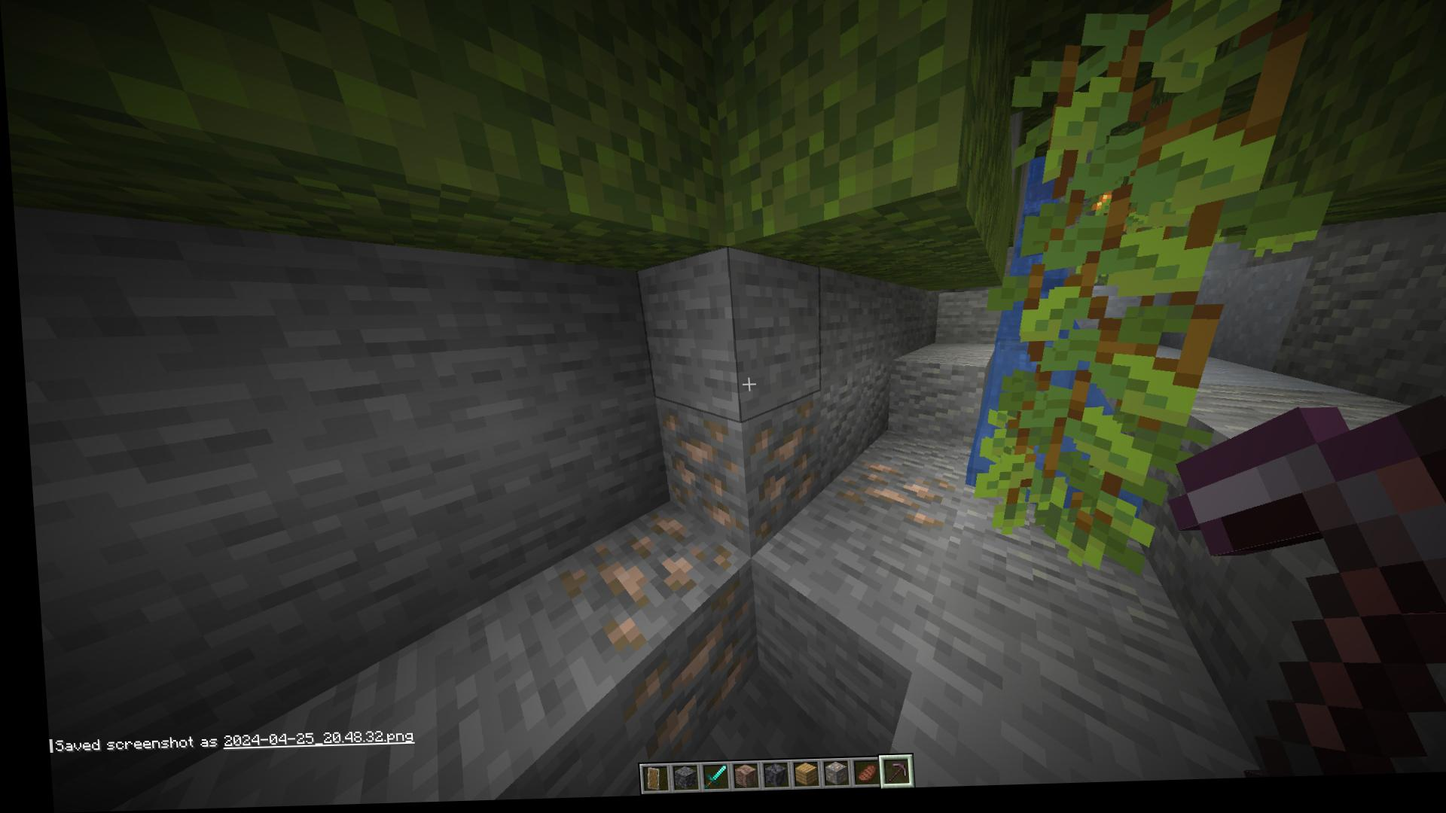iron ore: (627, 581, 750, 751), (547, 524, 729, 633), (736, 402, 816, 534), (648, 416, 741, 525), (826, 458, 951, 536)
